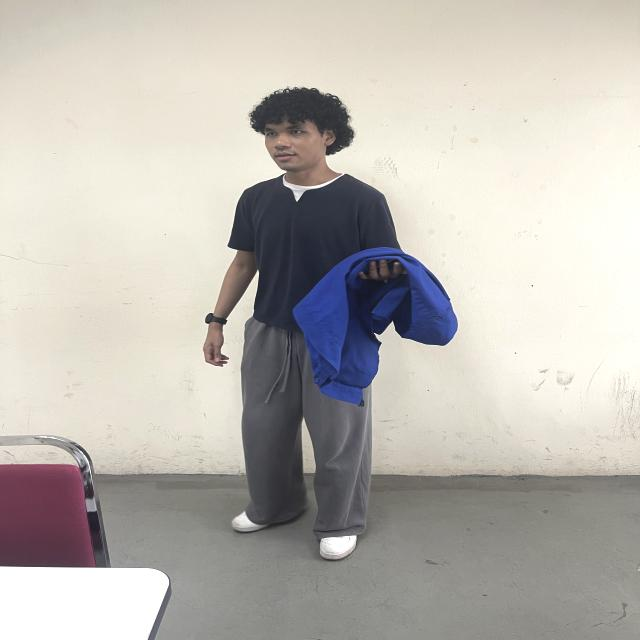person_without_labcoat: (204, 88, 457, 559)
